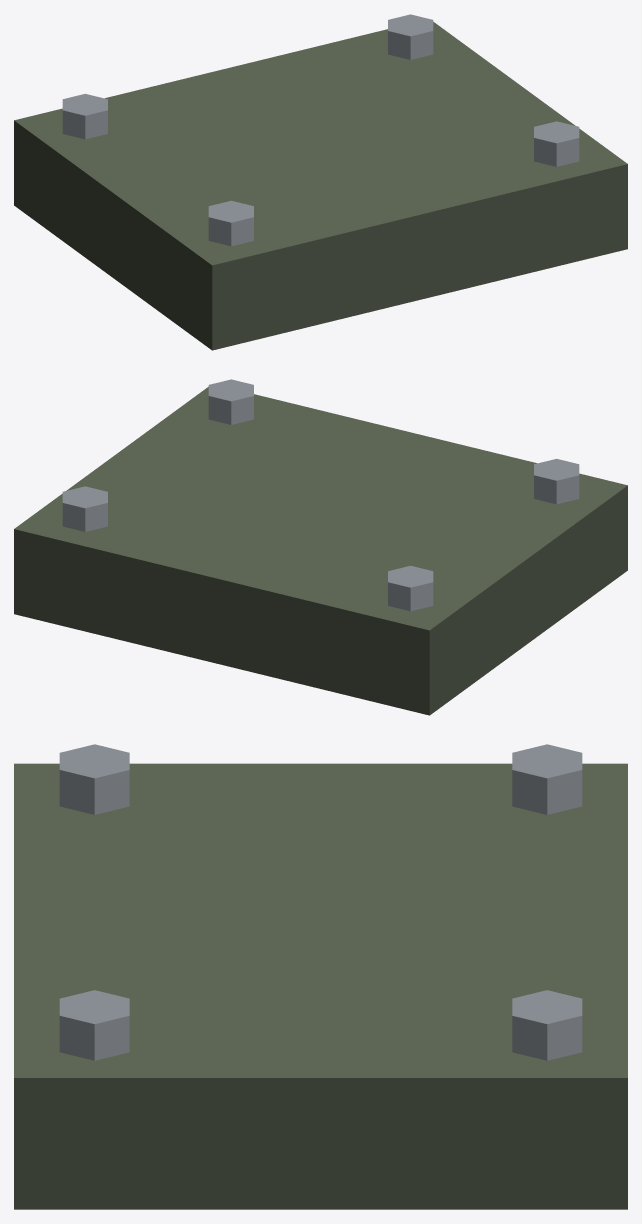
The model's file is item_armor_plate.obj.
3 renders of one model, top to bottom at view 1: azimuth 30°, elevation 25°; view 2: azimuth 150°, elevation 25°; view 3: azimuth 270°, elevation 25°, orthographic. The views are drawn at different scales.
Size of the model in its own units: 0.92 by 0.23 by 0.76.
